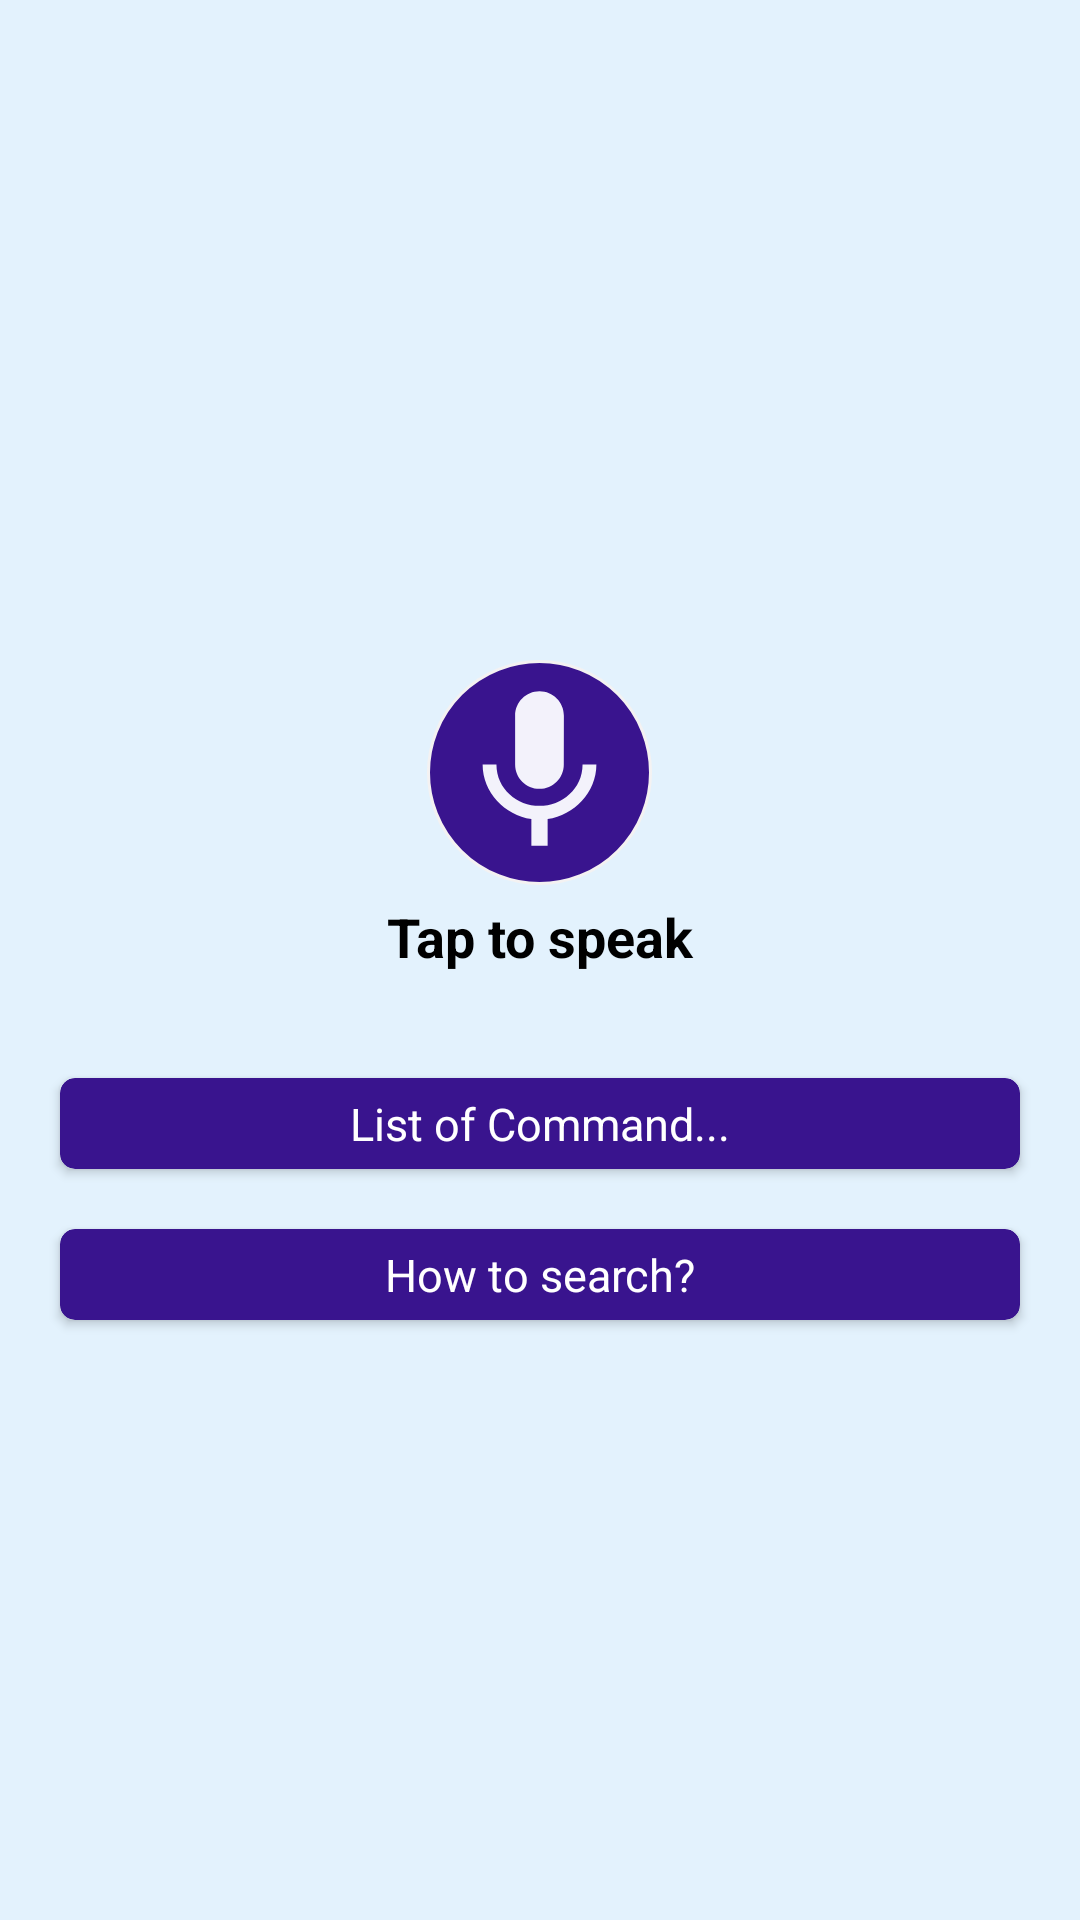

Point at icon controls on the screen. Image size 1080x1920, points as (x=x, y=y).
mic: (x=539, y=772)
